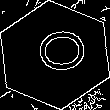O_W: (25, 31, 85, 79)
